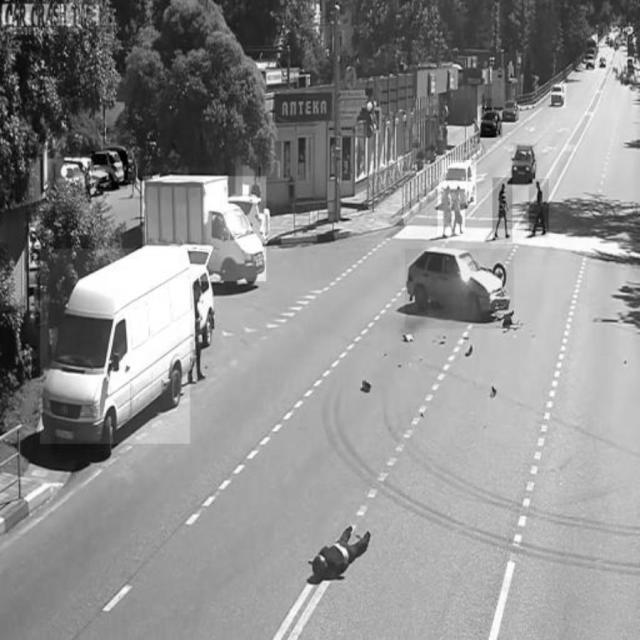person: (306, 516, 374, 586), (438, 179, 465, 236), (493, 178, 513, 242), (529, 179, 549, 237)
vehicle: (40, 249, 190, 444), (142, 177, 266, 281), (406, 249, 514, 329), (441, 161, 476, 206), (92, 152, 128, 189), (511, 143, 538, 187), (480, 108, 504, 138), (500, 98, 520, 124), (550, 83, 566, 108)
